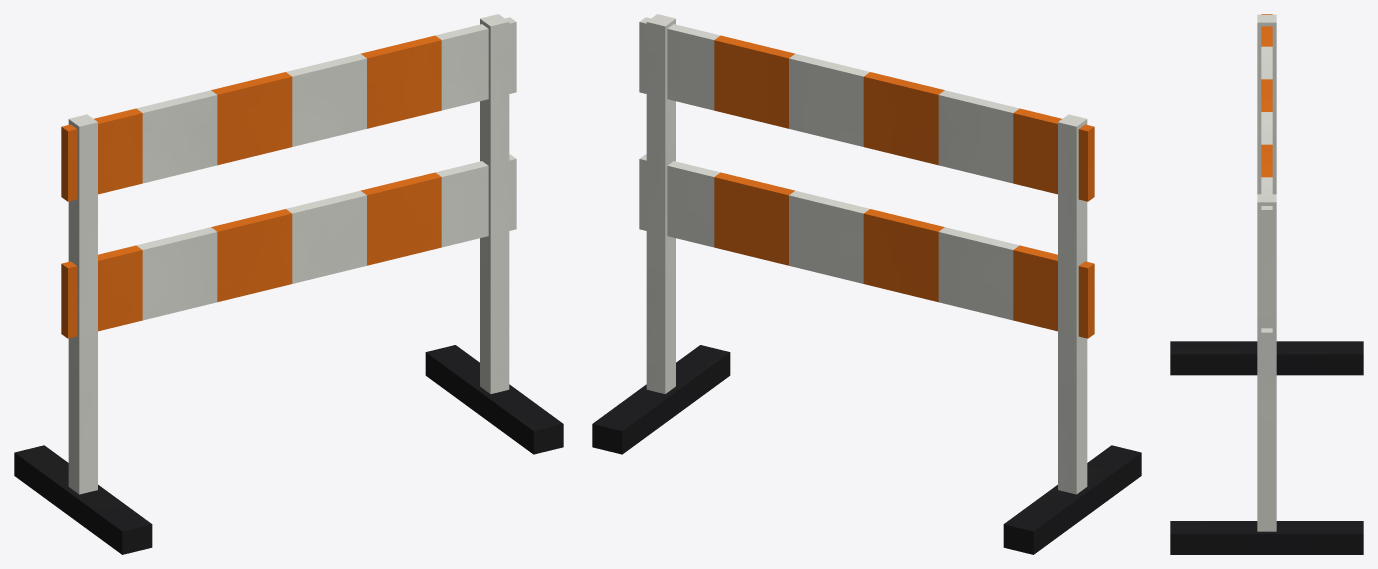
The model's file is cavalete_obra.glb.
3 renders of one model, left to right at view 1: azimuth 30°, elevation 25°; view 2: azimuth 150°, elevation 25°; view 3: azimuth 270°, elevation 25°, orthographic. The views are drawn at different scales.
Parts seen in each view (by area): view 1: Inteiro, Peca_00, Peca_02; view 2: Inteiro, Peca_00, Peca_02; view 3: Inteiro.
Boxes of the visible parts, x1=… form: Inteiro: x1=14, y1=14, x2=563, y2=554; Peca_00: x1=61, y1=154, x2=516, y2=338; Peca_02: x1=15, y1=445, x2=150, y2=530; Inteiro: x1=592, y1=14, x2=1141, y2=554; Peca_00: x1=639, y1=154, x2=1094, y2=338; Peca_02: x1=1008, y1=445, x2=1140, y2=521; Inteiro: x1=1170, y1=14, x2=1363, y2=554.
Bounding box in the file's own units: 1.2 × 1 × 0.5.
1 material, 1 textured.
